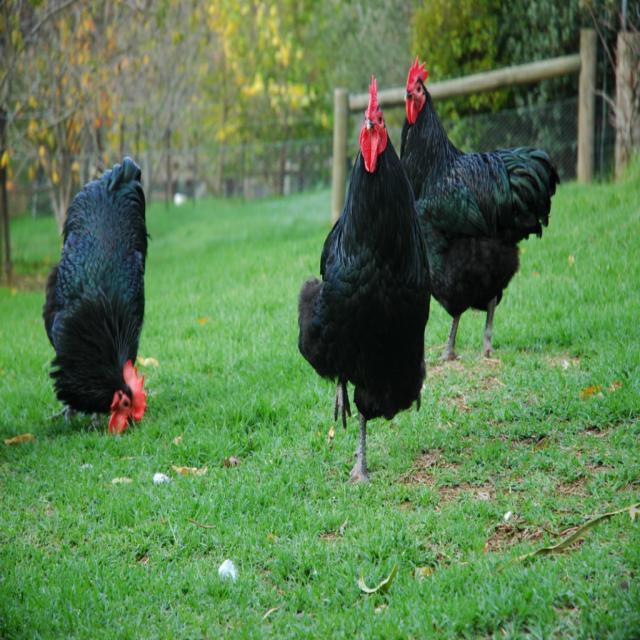Chicken: (296, 75, 431, 482), (399, 57, 560, 360), (41, 157, 153, 431)
